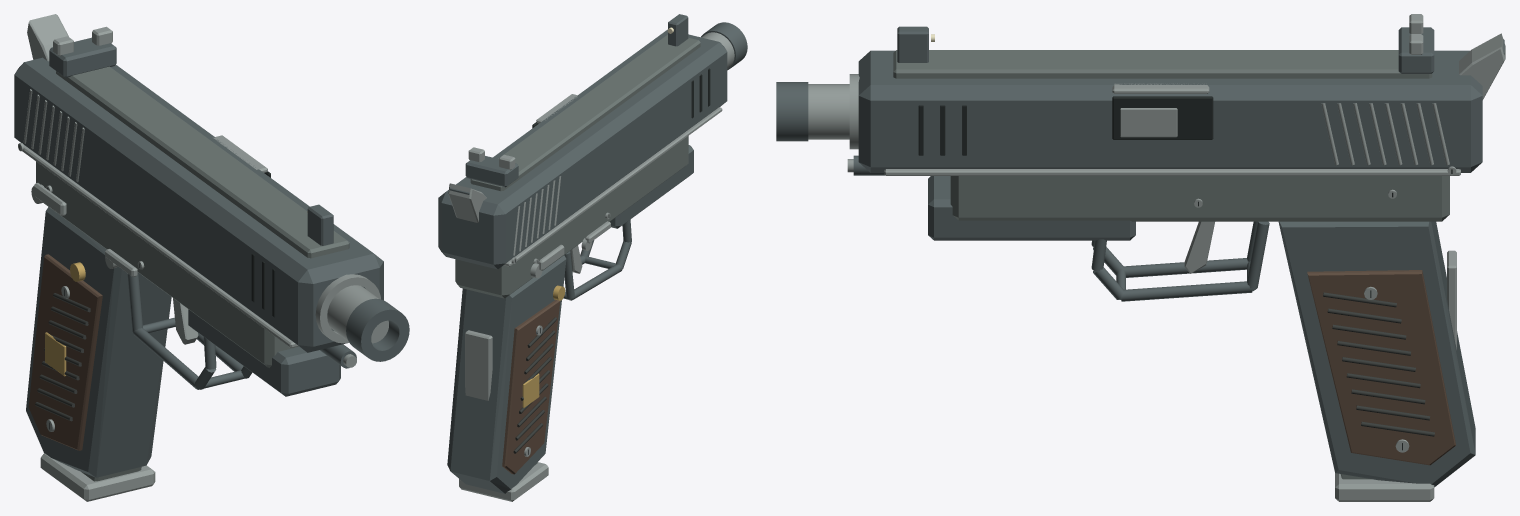
Rendered from pistol.glb.
The picture shows the model from 3 angles, left to right: view 1: azimuth 30°, elevation 25°; view 2: azimuth 150°, elevation 25°; view 3: azimuth 270°, elevation 25°; orthographic projection. The views are drawn at different scales.
Parts seen in each view (by area): view 1: Slide, Grip frame, Slide top rib, Receiver, Bakelite grip panels, Dust cover, Trigger guard, Muzzle crown, Magazine floor plate, Slide lower bright edge, Rear sight base, Grip ribs (+12 smaller); view 2: Slide, Grip frame, Slide top rib, Receiver, Bakelite grip panels, Rear backstrap, Trigger guard, Slide lower bright edge, Grip ribs, Dust cover, Rear sight base, Magazine floor plate (+8 smaller); view 3: Slide, Receiver, Grip frame, Bakelite grip panels, Slide top rib, Dust cover, Slide lower bright edge, Grip ribs, Trigger guard right, Ejection port, Barrel, Slide serrations (+10 smaller).
Part boxes in pixels (<box>): Slide: <box>14,57,383,352</box>; Grip frame: <box>26,207,171,477</box>; Slide top rib: <box>56,66,349,258</box>; Receiver: <box>36,161,298,367</box>; Bakelite grip panels: <box>28,254,102,450</box>; Dust cover: <box>188,309,340,396</box>; Trigger guard: <box>127,272,244,389</box>; Muzzle crown: <box>346,298,409,361</box>; Magazine floor plate: <box>40,453,155,501</box>; Slide lower bright edge: <box>22,145,298,347</box>; Rear sight base: <box>49,37,116,77</box>; Grip ribs: <box>35,293,90,421</box>; Slide: <box>438,30,727,269</box>; Grip frame: <box>447,255,566,493</box>; Slide top rib: <box>470,34,700,191</box>; Receiver: <box>455,136,688,298</box>; Bakelite grip panels: <box>502,299,560,474</box>; Rear backstrap: <box>465,330,492,400</box>; Trigger guard: <box>563,219,631,300</box>; Slide lower bright edge: <box>504,107,722,266</box>; Grip ribs: <box>513,317,556,453</box>; Dust cover: <box>610,145,693,228</box>; Rear sight base: <box>465,156,518,187</box>; Magazine floor plate: <box>459,462,548,501</box>; Slide: <box>858,50,1482,172</box>; Receiver: <box>950,176,1449,221</box>; Grip frame: <box>1278,221,1475,487</box>; Bakelite grip panels: <box>1307,270,1455,465</box>; Slide top rib: <box>893,50,1432,78</box>; Dust cover: <box>928,176,1135,240</box>; Slide lower bright edge: <box>884,169,1460,175</box>; Grip ribs: <box>1323,292,1434,436</box>; Trigger guard right: <box>1091,221,1269,301</box>; Ejection port: <box>1112,96,1213,139</box>; Barrel: <box>808,84,849,139</box>; Slide serrations: <box>1321,103,1449,165</box>.
Size of the model in its own units: 0.0643 by 0.255 by 0.368.
